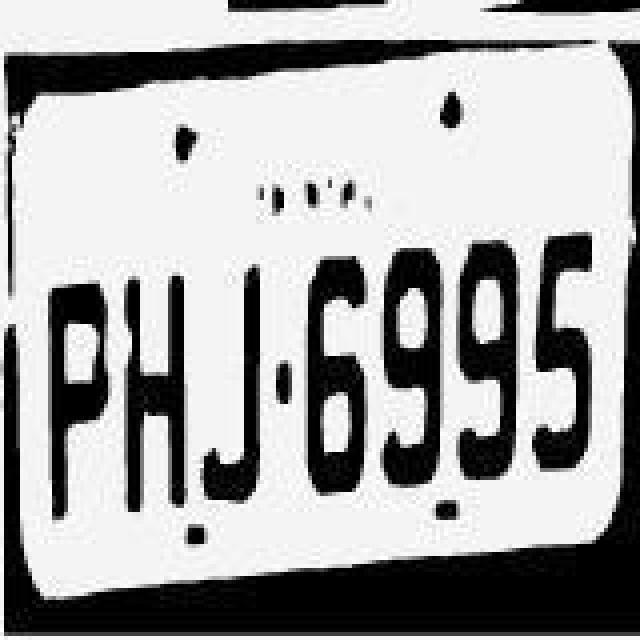5: (532, 232, 596, 472)
6: (302, 252, 370, 492)
9: (372, 244, 444, 484), (454, 236, 522, 484)
H: (124, 264, 196, 520)
J: (200, 260, 272, 508)
P: (40, 284, 120, 532)
